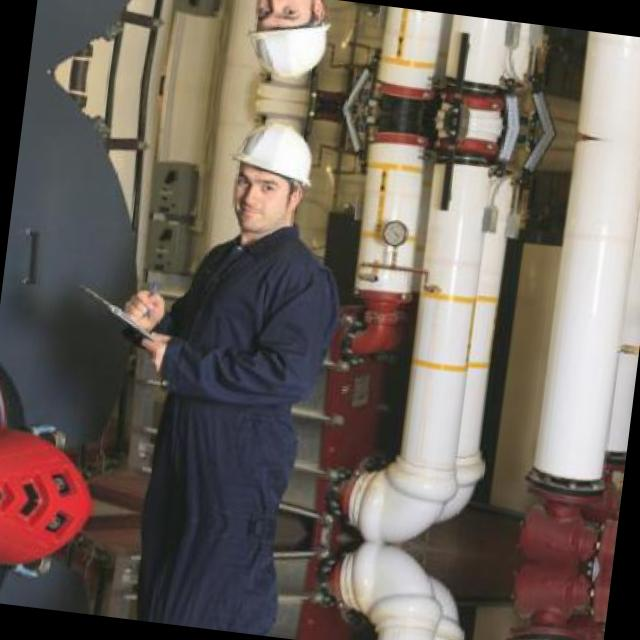helmet: (218, 103, 328, 245), (235, 0, 343, 96)
